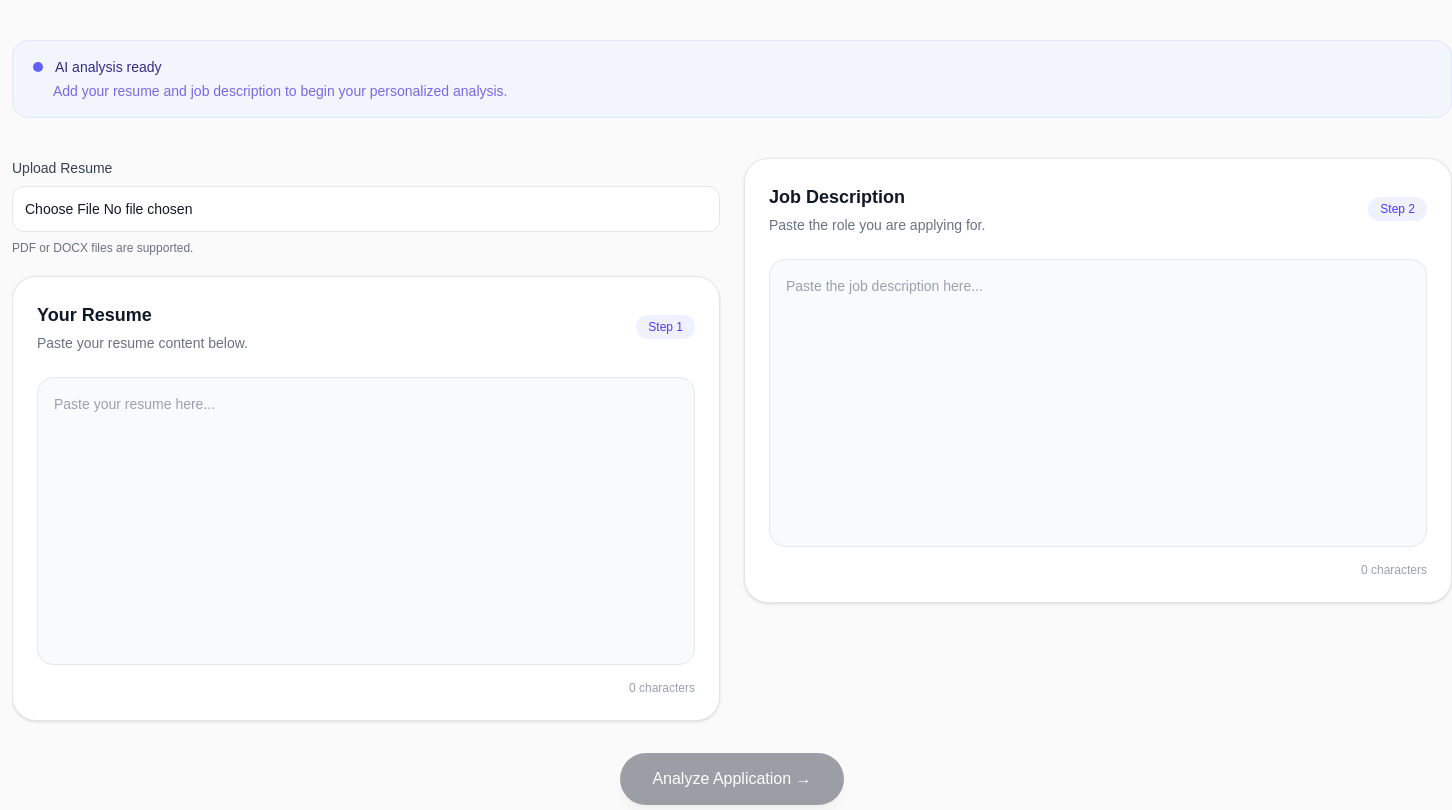
ApplicationForm › shows loading state while analysis is in progress
Type "React developer with TypeScript experience." into the text box with placeholder "Paste your resume here..." at (366, 521), box [37, 377, 695, 665]
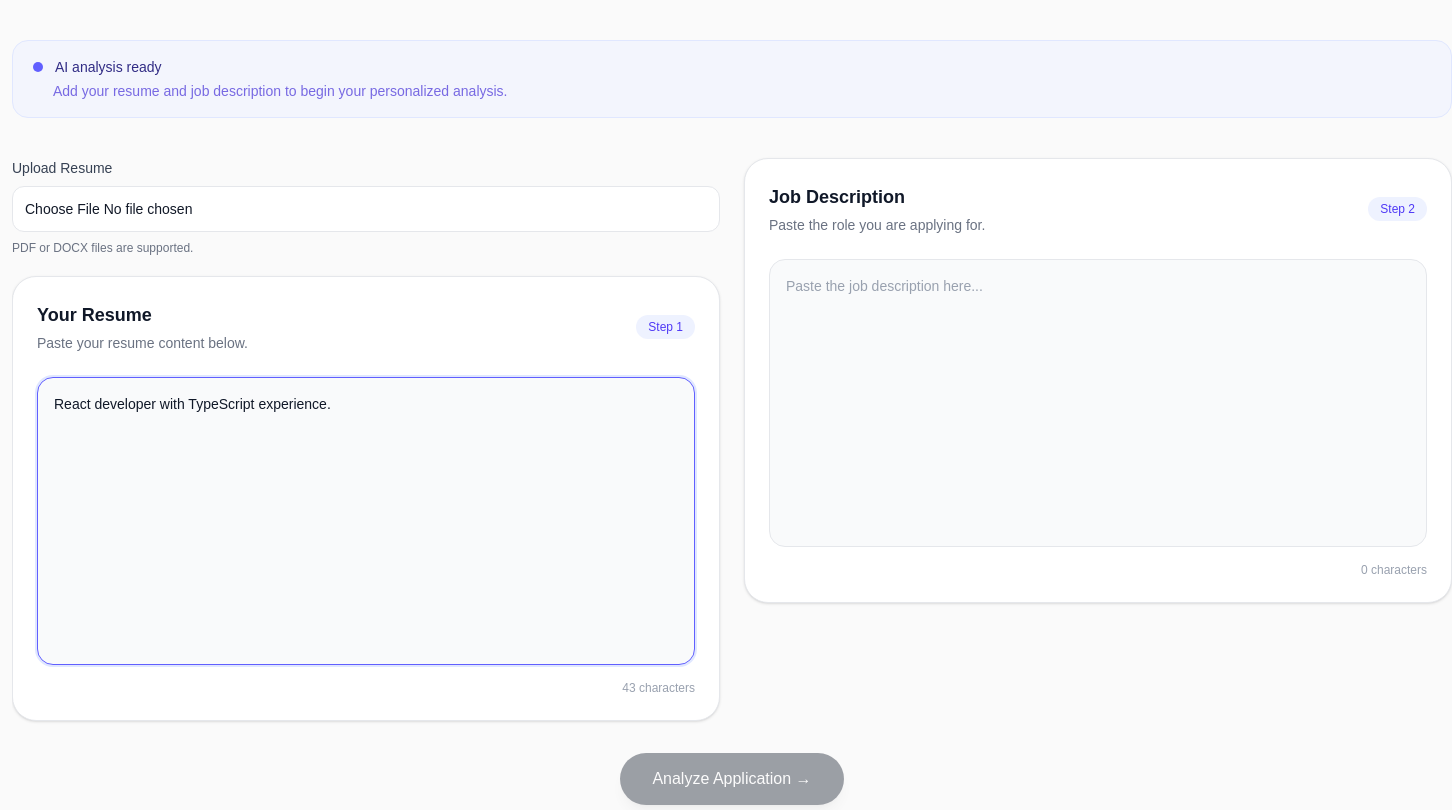
Type "Looking for a React developer." into the text box with placeholder "Paste the job description here..." at (1098, 403), box [769, 259, 1427, 547]
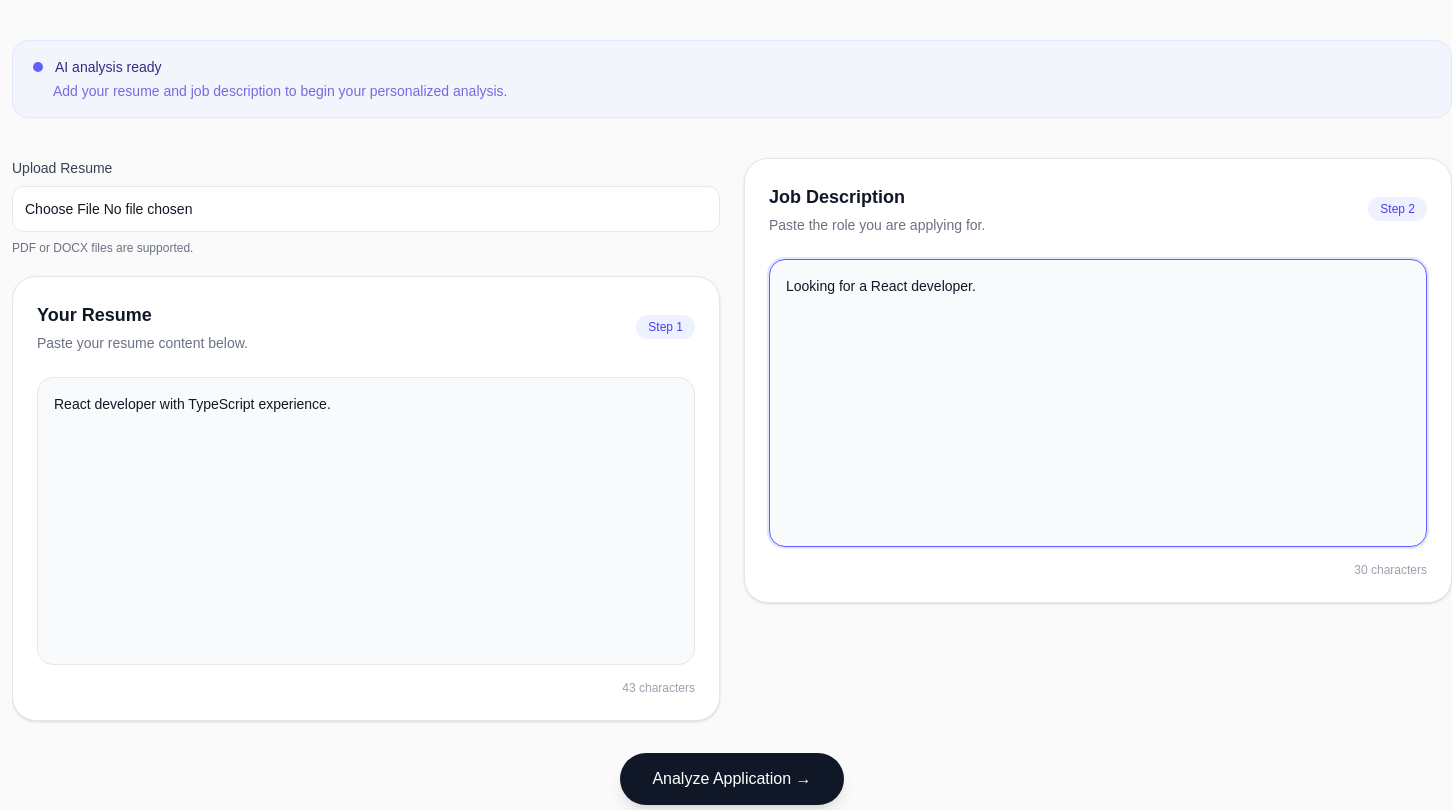
Click the button "Analyze Application →" at (732, 779), box [620, 753, 844, 805]
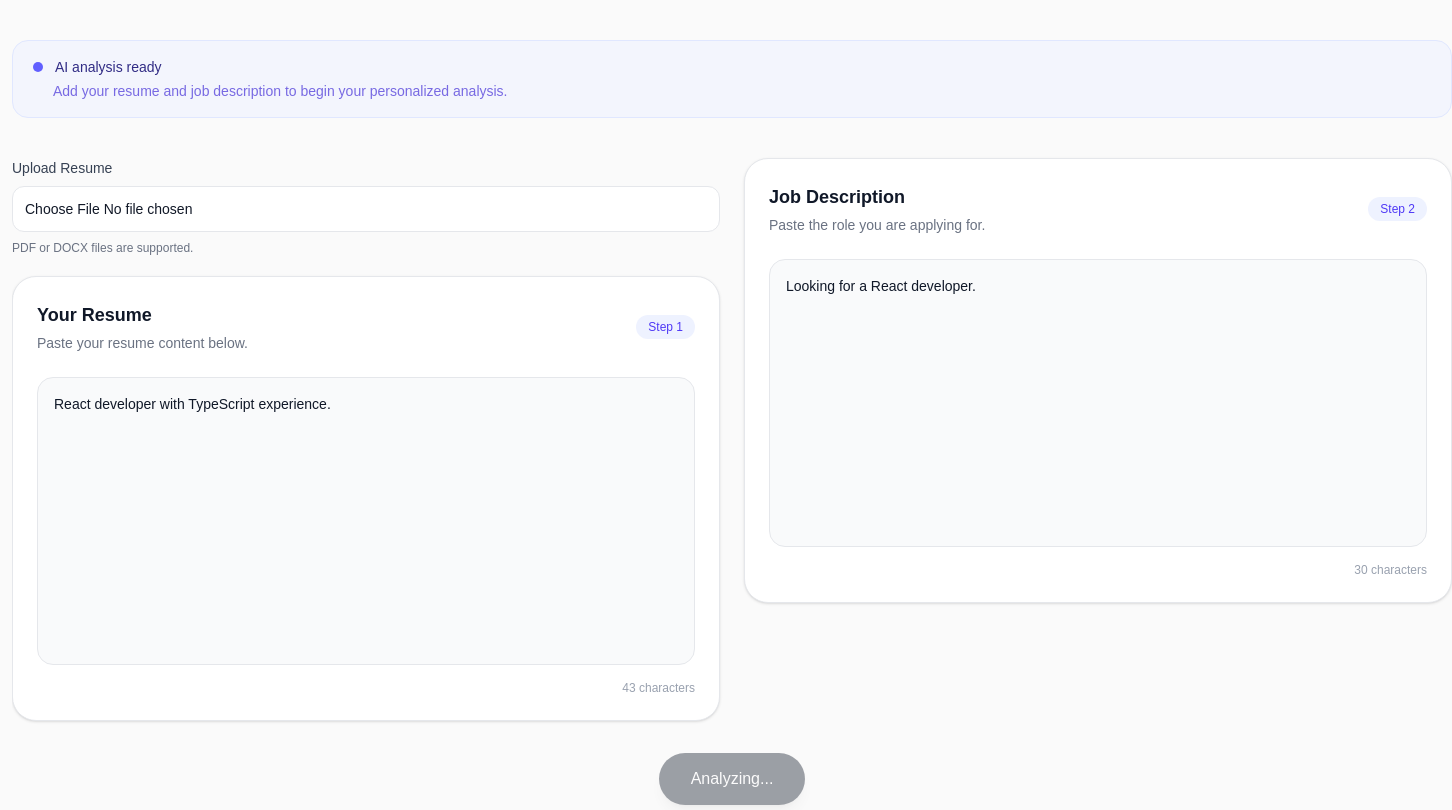
Check: the button "Analyzing..." is shown, box [659, 753, 805, 805]
